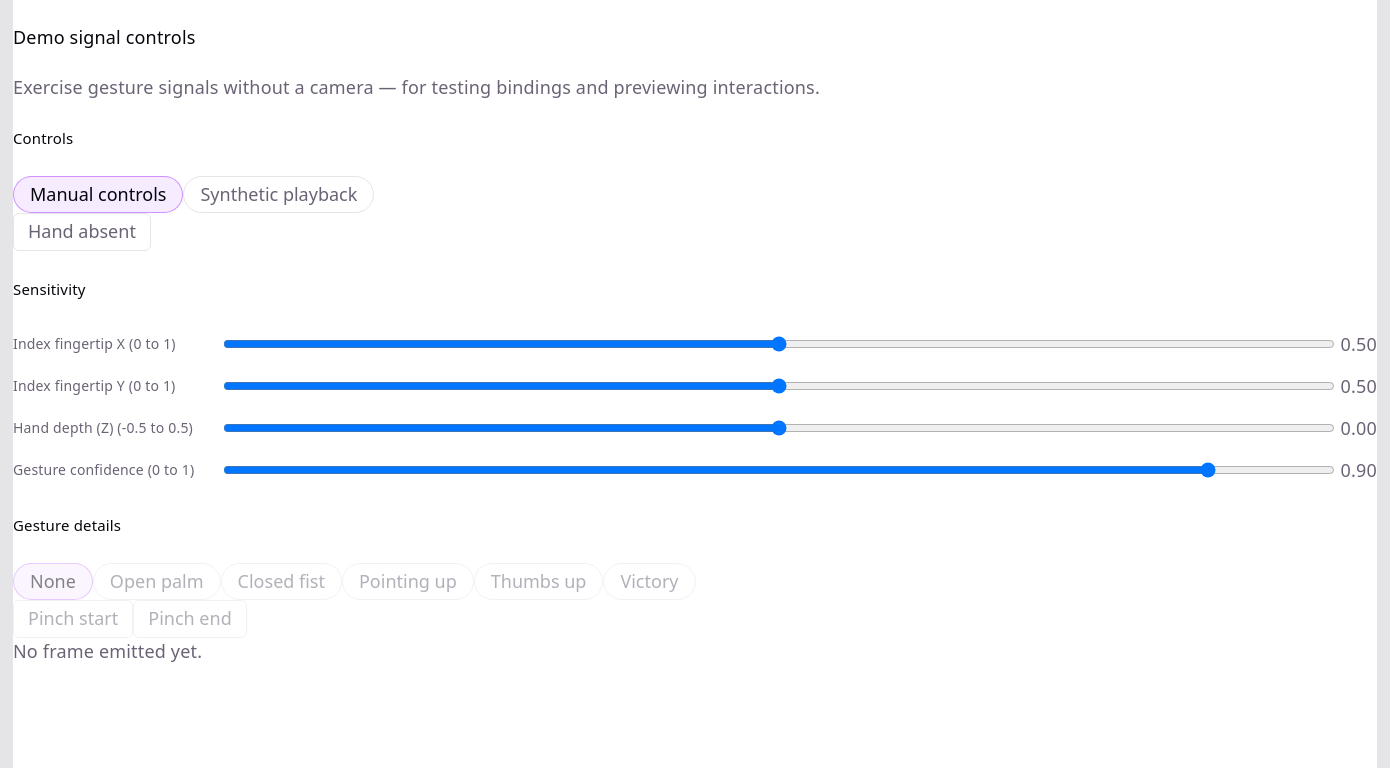
Test: DemoControlsPanel › reduced motion › does not auto-advance on a timer while motion is reduced
Click the radio button labelled "Synthetic playback".
click(279, 195)  # box [184,176,374,213]
Wait 2000 ms
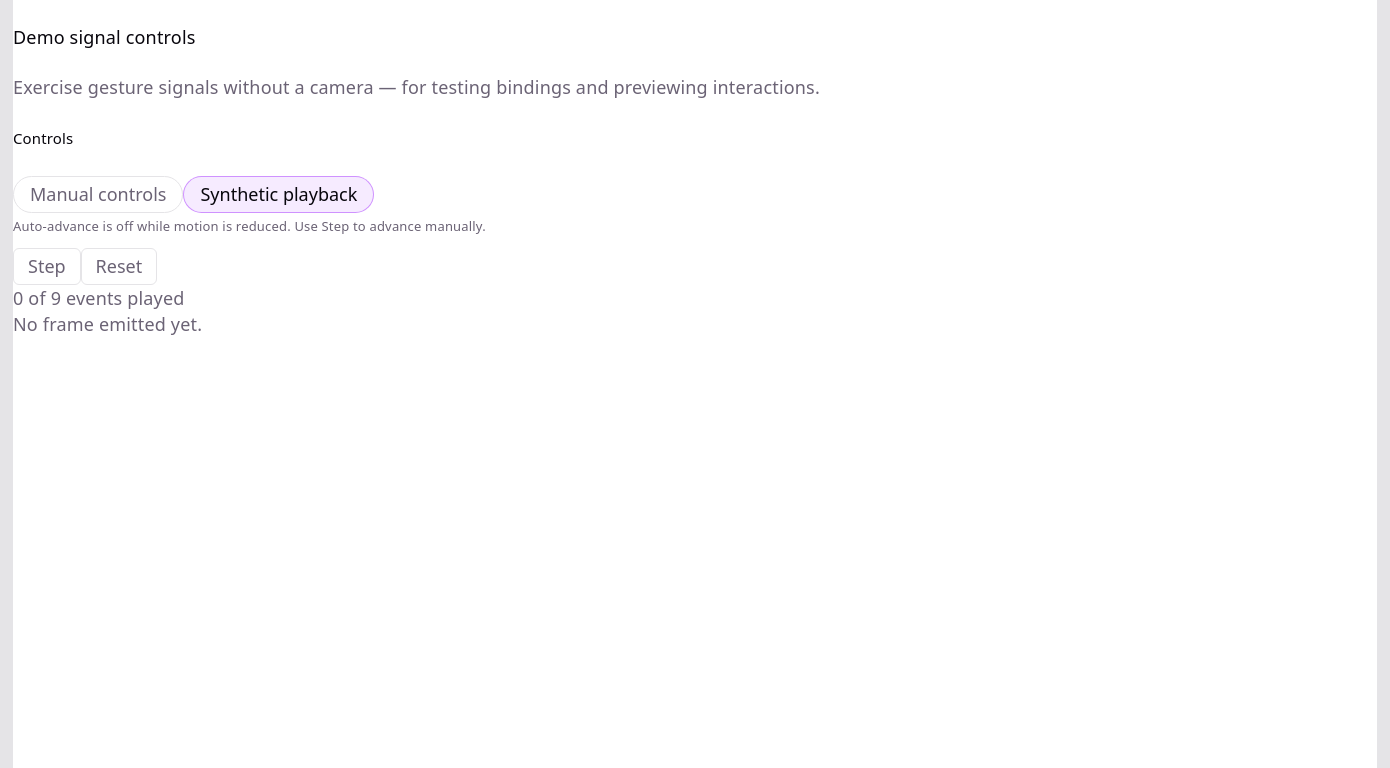
Now the text "0 of 9 events played" is shown, box [13,286,185,310]
